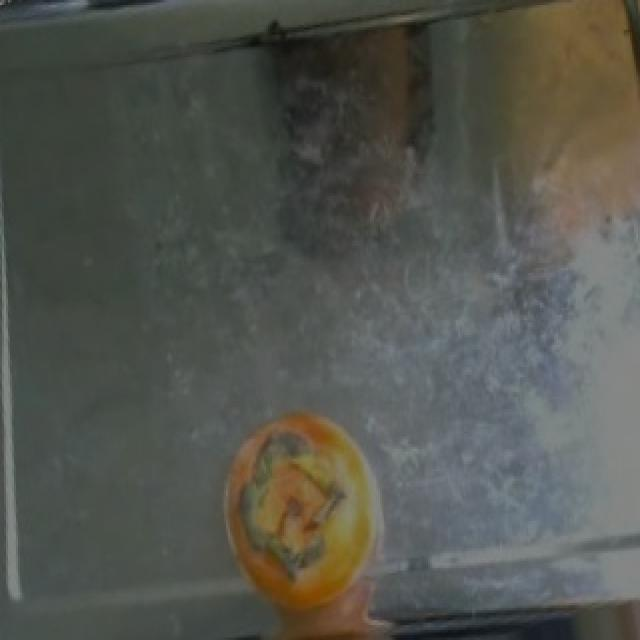Fruit: (220, 397, 402, 637)
